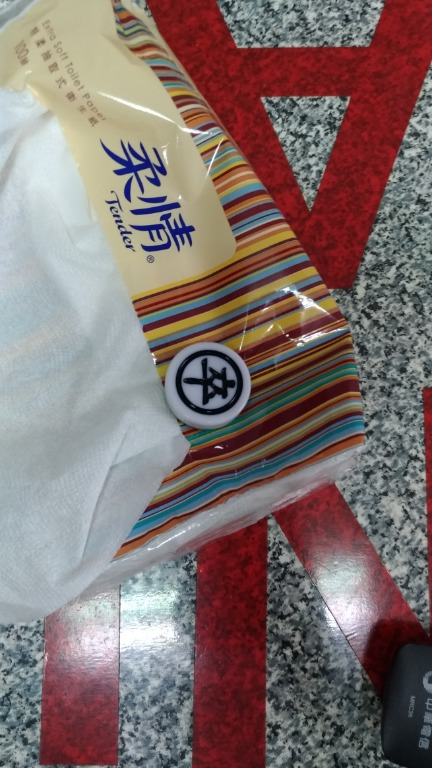b-pawn: (161, 331, 258, 438)
